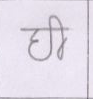i_matra: (50, 15, 69, 57)
